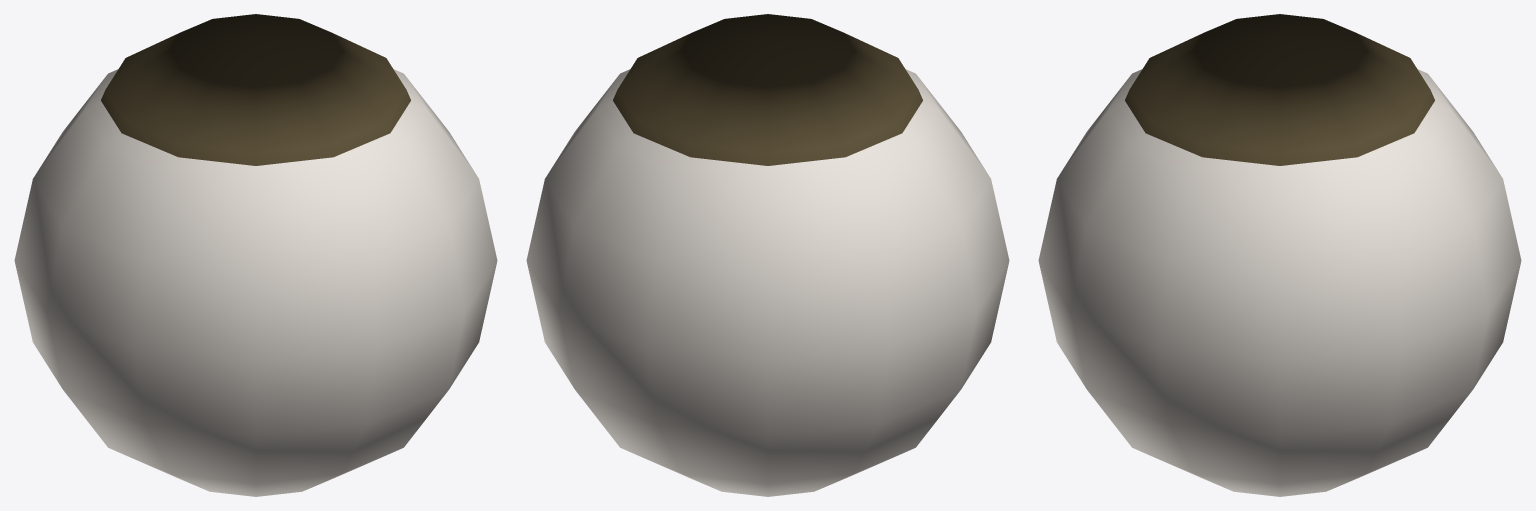
The model's file is gale_ram_eye.glb.
3 views of the same model, side by side, from view 1: azimuth 30°, elevation 25°; view 2: azimuth 150°, elevation 25°; view 3: azimuth 270°, elevation 25° (orthographic).
Visible parts, largest first — view 1: gale_ram_eye; view 2: gale_ram_eye; view 3: gale_ram_eye.
Boxes of the visible parts, x1=… form: gale_ram_eye: x1=14, y1=14, x2=497, y2=496; gale_ram_eye: x1=526, y1=14, x2=1009, y2=496; gale_ram_eye: x1=1038, y1=14, x2=1521, y2=496.
Size of the model in its own units: 0.025 by 0.025 by 0.025.
